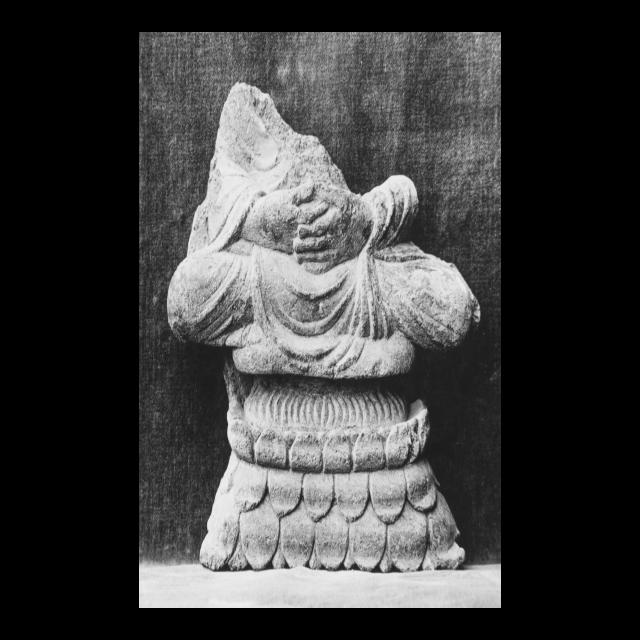buddha-sitting: (168, 82, 480, 571)
